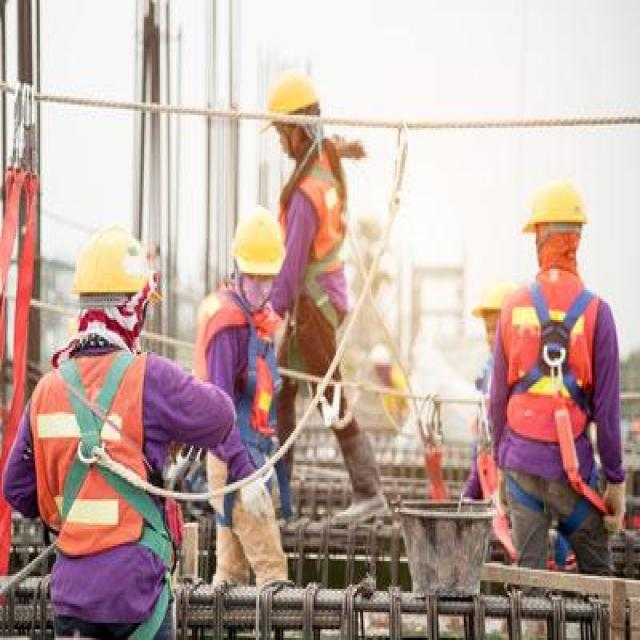reflective_jacket: (27, 339, 176, 567), (481, 271, 620, 476), (187, 277, 292, 447), (272, 141, 363, 333)
safety_helmet: (61, 209, 165, 315), (253, 57, 333, 143), (513, 166, 598, 245), (220, 196, 293, 287)
